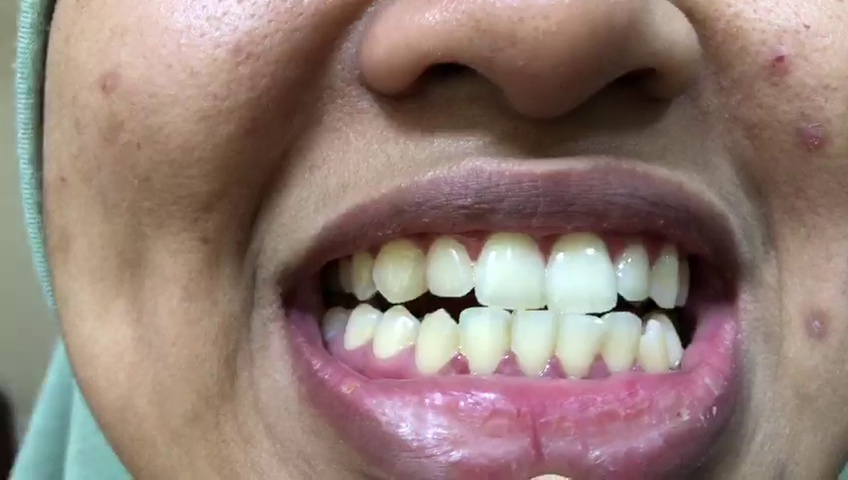1st Molar: (321, 308, 347, 339)
1st Premolar: (373, 309, 419, 361), (652, 313, 682, 365), (353, 240, 374, 301), (676, 259, 690, 308)
2nd Premolar: (343, 302, 380, 351)
Canine: (374, 238, 427, 303), (414, 308, 460, 377), (638, 321, 672, 378), (649, 245, 677, 309)
Central Incisor: (545, 233, 618, 315), (475, 231, 546, 309), (558, 313, 605, 379), (512, 309, 556, 377)
Lateral Incisor: (460, 302, 513, 378), (426, 237, 475, 298), (603, 311, 641, 379), (617, 240, 651, 302)
